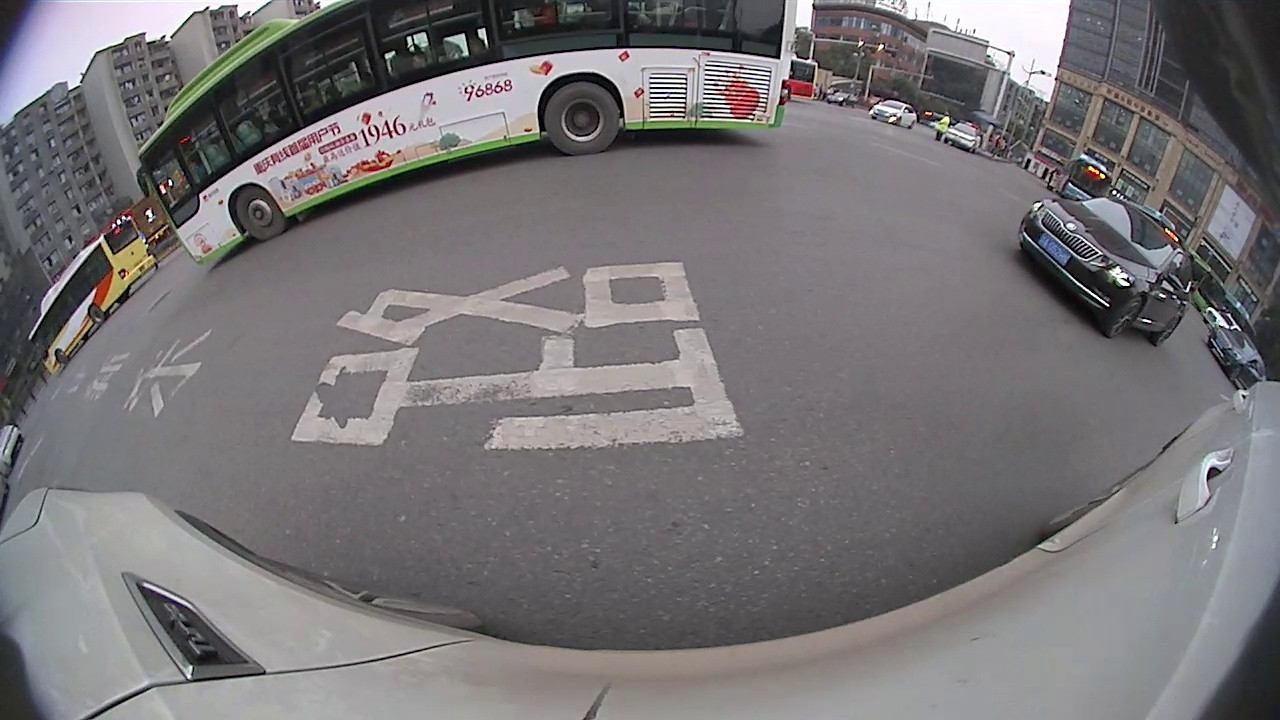bus: (132, 1, 799, 275), (22, 212, 160, 380), (1051, 148, 1118, 205), (785, 55, 826, 105)
car: (1014, 193, 1197, 345), (1202, 322, 1272, 387), (941, 116, 983, 155), (867, 98, 921, 128)
front: (231, 183, 293, 243), (1103, 295, 1147, 343)
rear: (539, 77, 623, 159)
